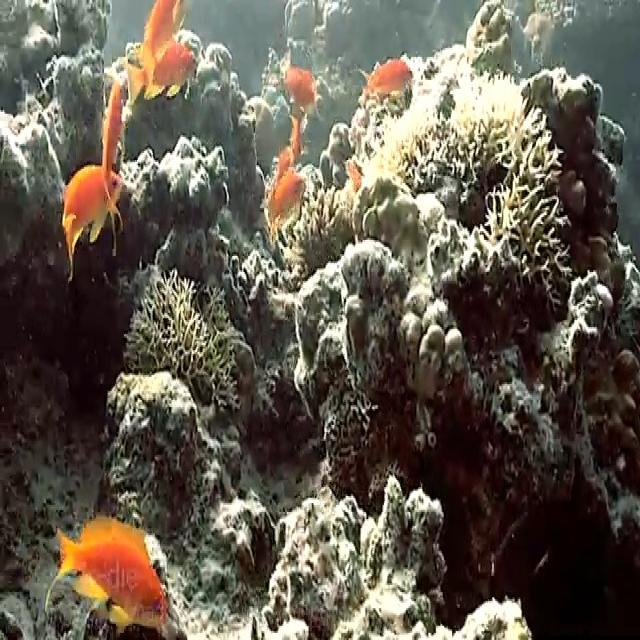Sea Goldie: (50, 511, 168, 629), (62, 164, 122, 276), (126, 43, 192, 97), (142, 0, 183, 68), (102, 83, 122, 203), (262, 168, 304, 222), (360, 62, 416, 98), (281, 65, 317, 111)
